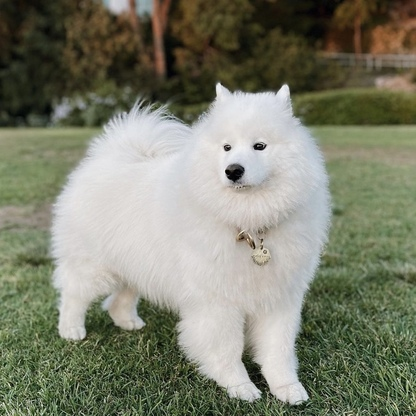samoyed: (40, 78, 339, 411)
